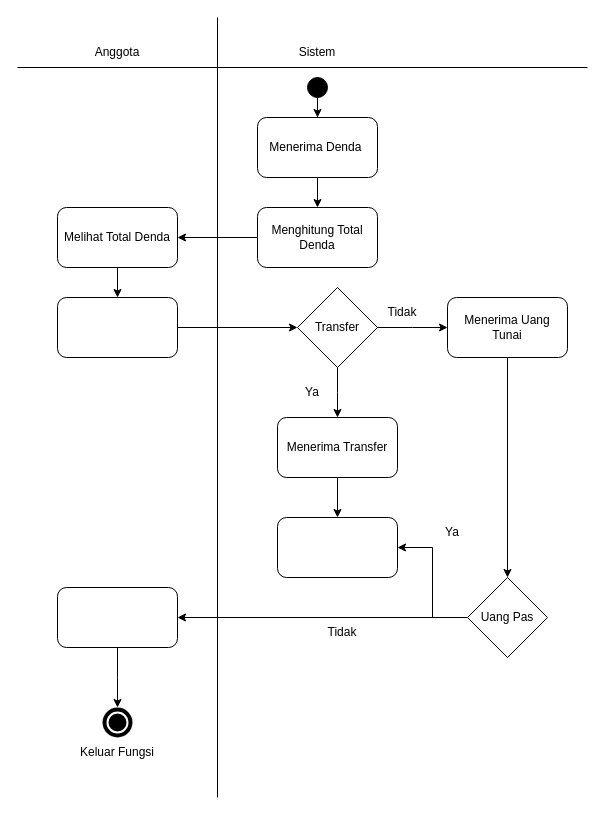
This 606x816 diagram has some shape labels left out. Here are the shapes that lost their labels. From the top down, the centre of each, then its label:
At (117,327): "Membayar Denda".
At (337,547): "Pencatatan Transaksi Pembayaran".
At (117,617): "Menerima Kembalian".
